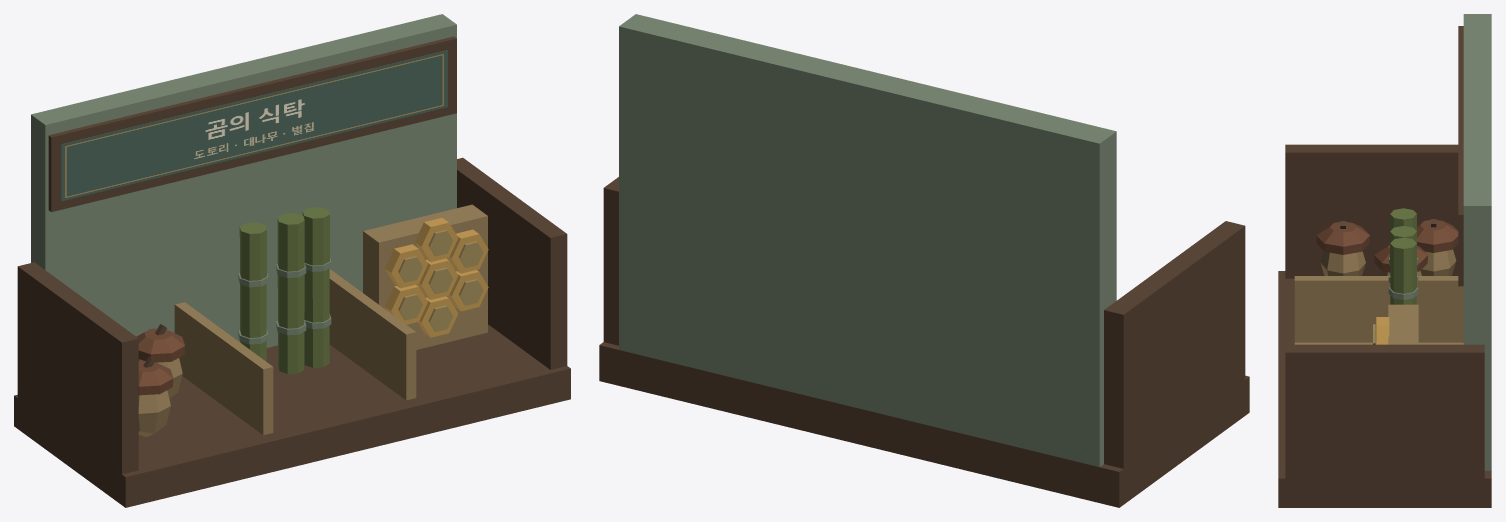
File: M04_Bear_Diet_Case.fbx
3 renders of one model, left to right at view 1: azimuth 30°, elevation 25°; view 2: azimuth 150°, elevation 25°; view 3: azimuth 270°, elevation 25°, orthographic. The views are drawn at different scales.
Parts seen in each view (by area): view 1: Structure.008; view 2: Structure.008; view 3: Structure.008.
Part boxes in pixels (x1,y1,x2,y2): Structure.008: (14, 14, 570, 507); Structure.008: (599, 14, 1249, 507); Structure.008: (1278, 14, 1491, 507).
Size of the model in its own units: 106 by 70 by 46.
1 material, 1 textured.
